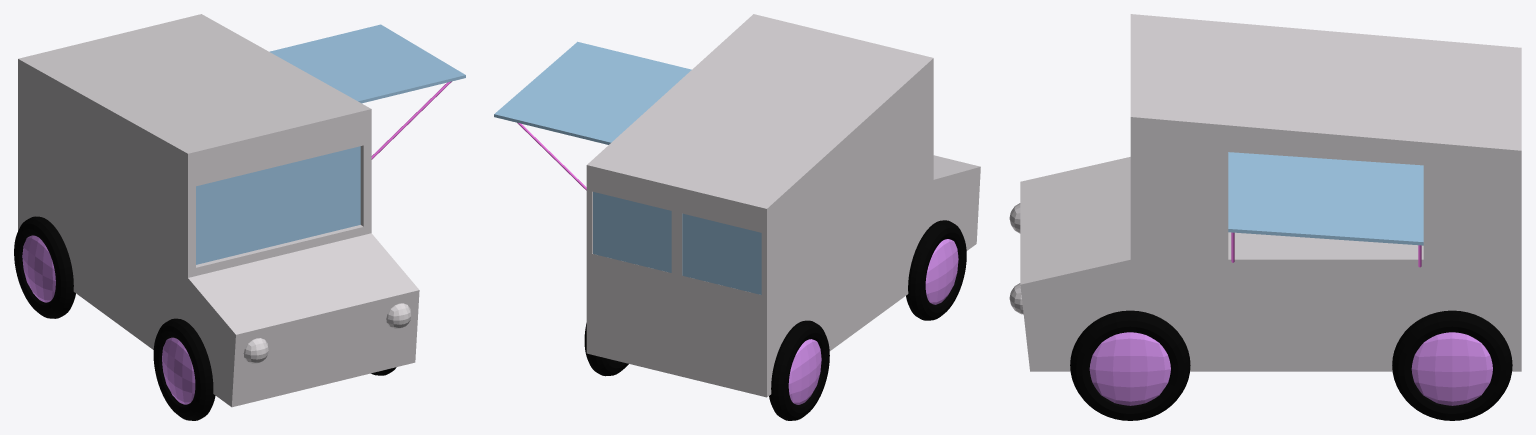
The model's file is FOOD TRUCK.glb.
3 views of the same model, side by side, from view 1: azimuth 30°, elevation 25°; view 2: azimuth 150°, elevation 25°; view 3: azimuth 270°, elevation 25° (orthographic). The views are drawn at different scales.
Parts seen in each view (by area): view 1: FOOD TRUCK; view 2: FOOD TRUCK; view 3: FOOD TRUCK.
Boxes of the visible parts, left/top/right/bottom form: FOOD TRUCK: left=14, top=14, right=465, bottom=420; FOOD TRUCK: left=494, top=14, right=980, bottom=420; FOOD TRUCK: left=1009, top=14, right=1521, bottom=420.
Bounding box in the file's own units: 26.49 × 19.93 × 30.58.
